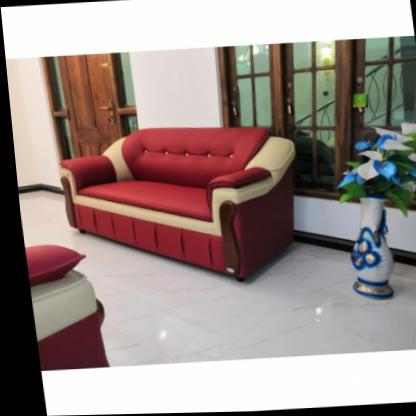Ceramic floor: (87, 246, 416, 367)
Sofa: (52, 122, 301, 294)
